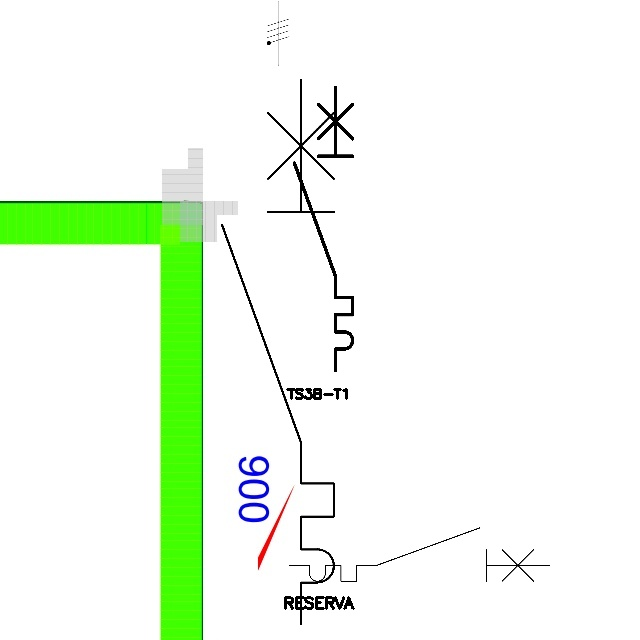interruptor_termomagnetico: (208, 65, 348, 637), (287, 80, 360, 378), (283, 521, 556, 588)
